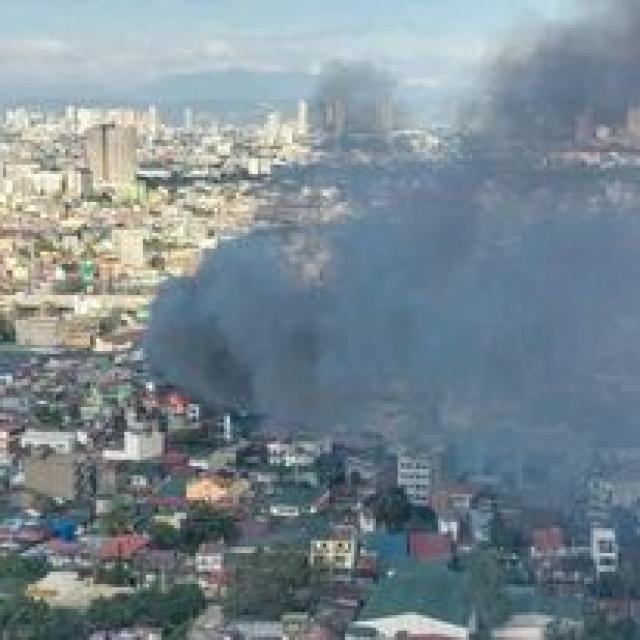Smoke: (346, 148, 640, 426), (162, 280, 448, 420)
